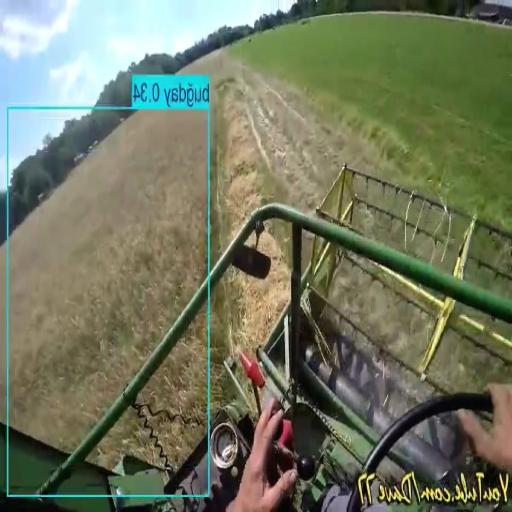bugday: (9, 110, 208, 450), (149, 313, 206, 412)
